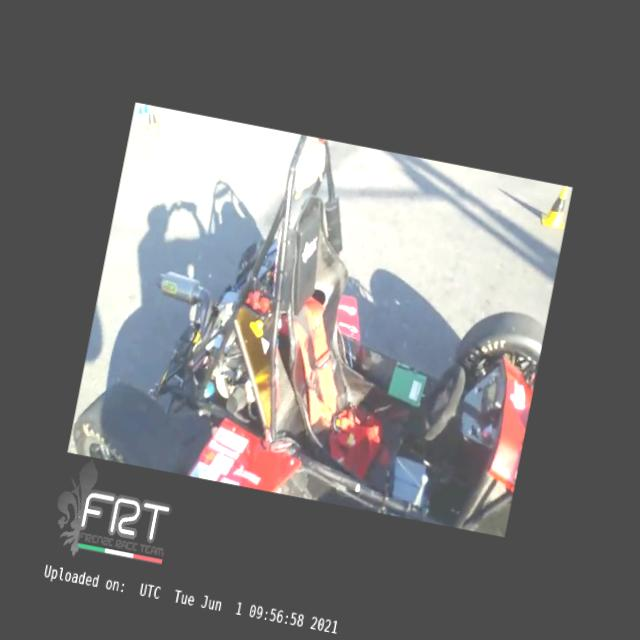yellow_cone: (540, 183, 571, 229), (144, 106, 166, 136)
